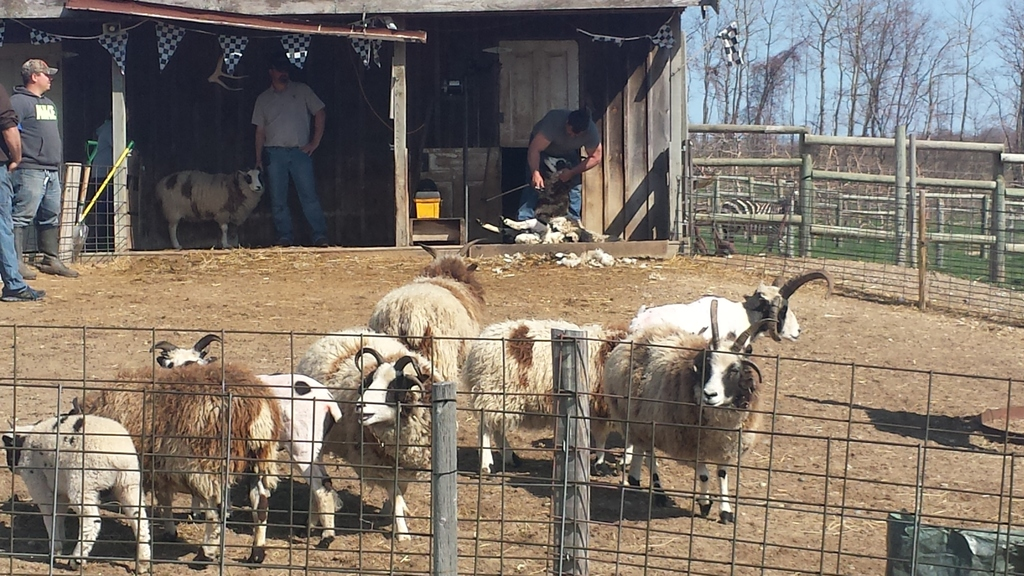Person: (0, 58, 601, 301)
